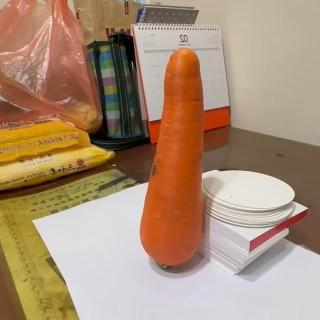carrot: (138, 49, 206, 269)
